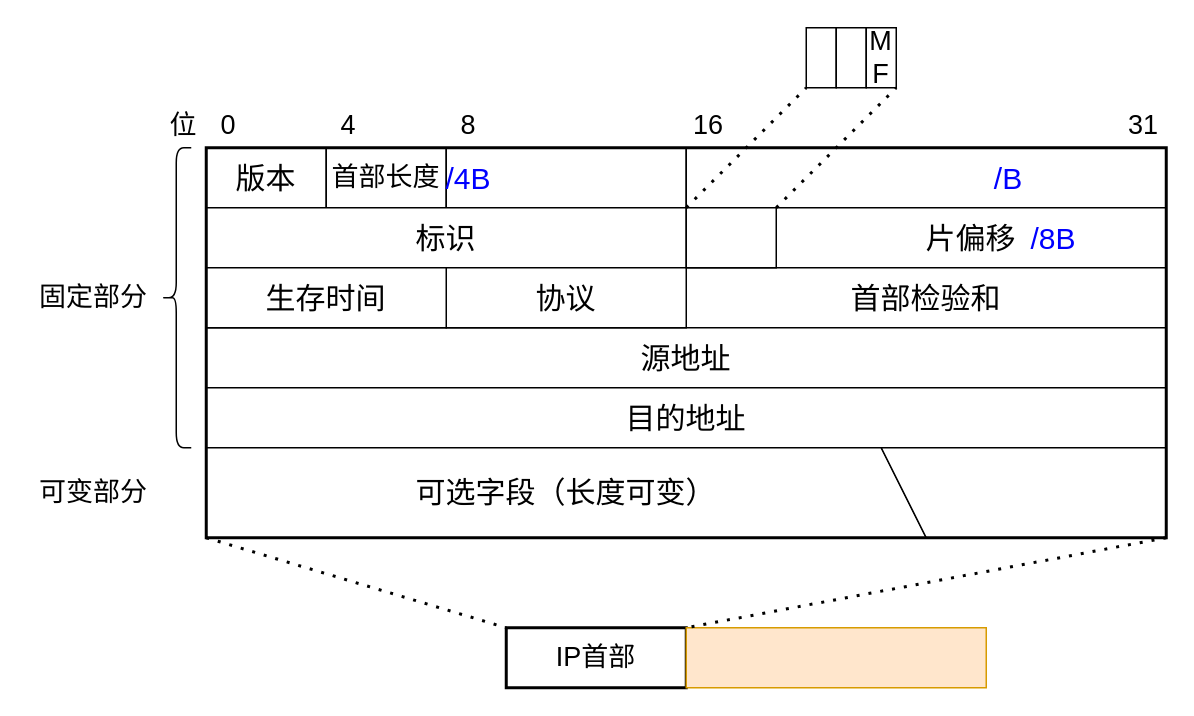
This 1194x716 diagram has some shape labels left out. The shapes that lost their labels are listed below. From the top down, each one's box as (x1, y1, x2, y2) in pixels, then its label:
(835, 26, 866, 88): D F
(445, 146, 686, 208): 区分服务
(685, 146, 1166, 208): 总长度
(685, 206, 776, 268): 标志
(880, 446, 1166, 538): 填充
(685, 626, 986, 688): 数据部分
